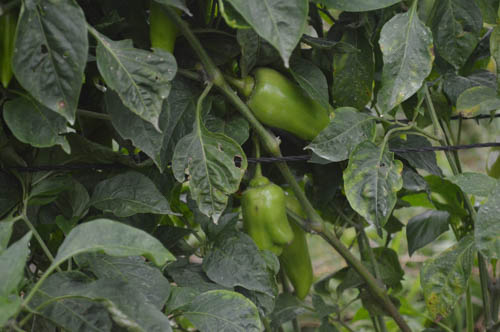ChiliPepper: (250, 69, 330, 145), (241, 185, 295, 274), (274, 191, 314, 307)
